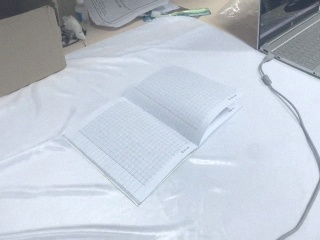box: (1, 1, 66, 102)
